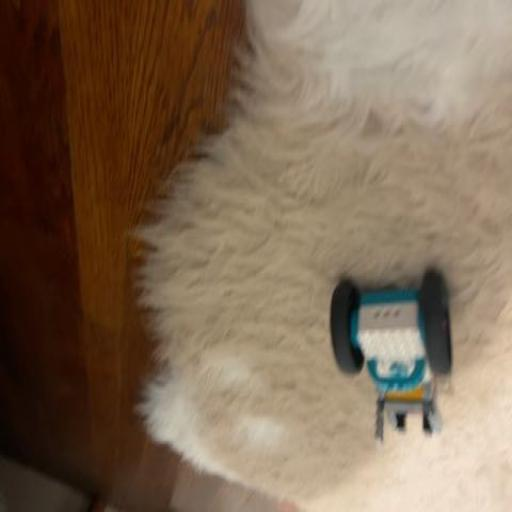Opponent: (322, 265, 462, 448)
